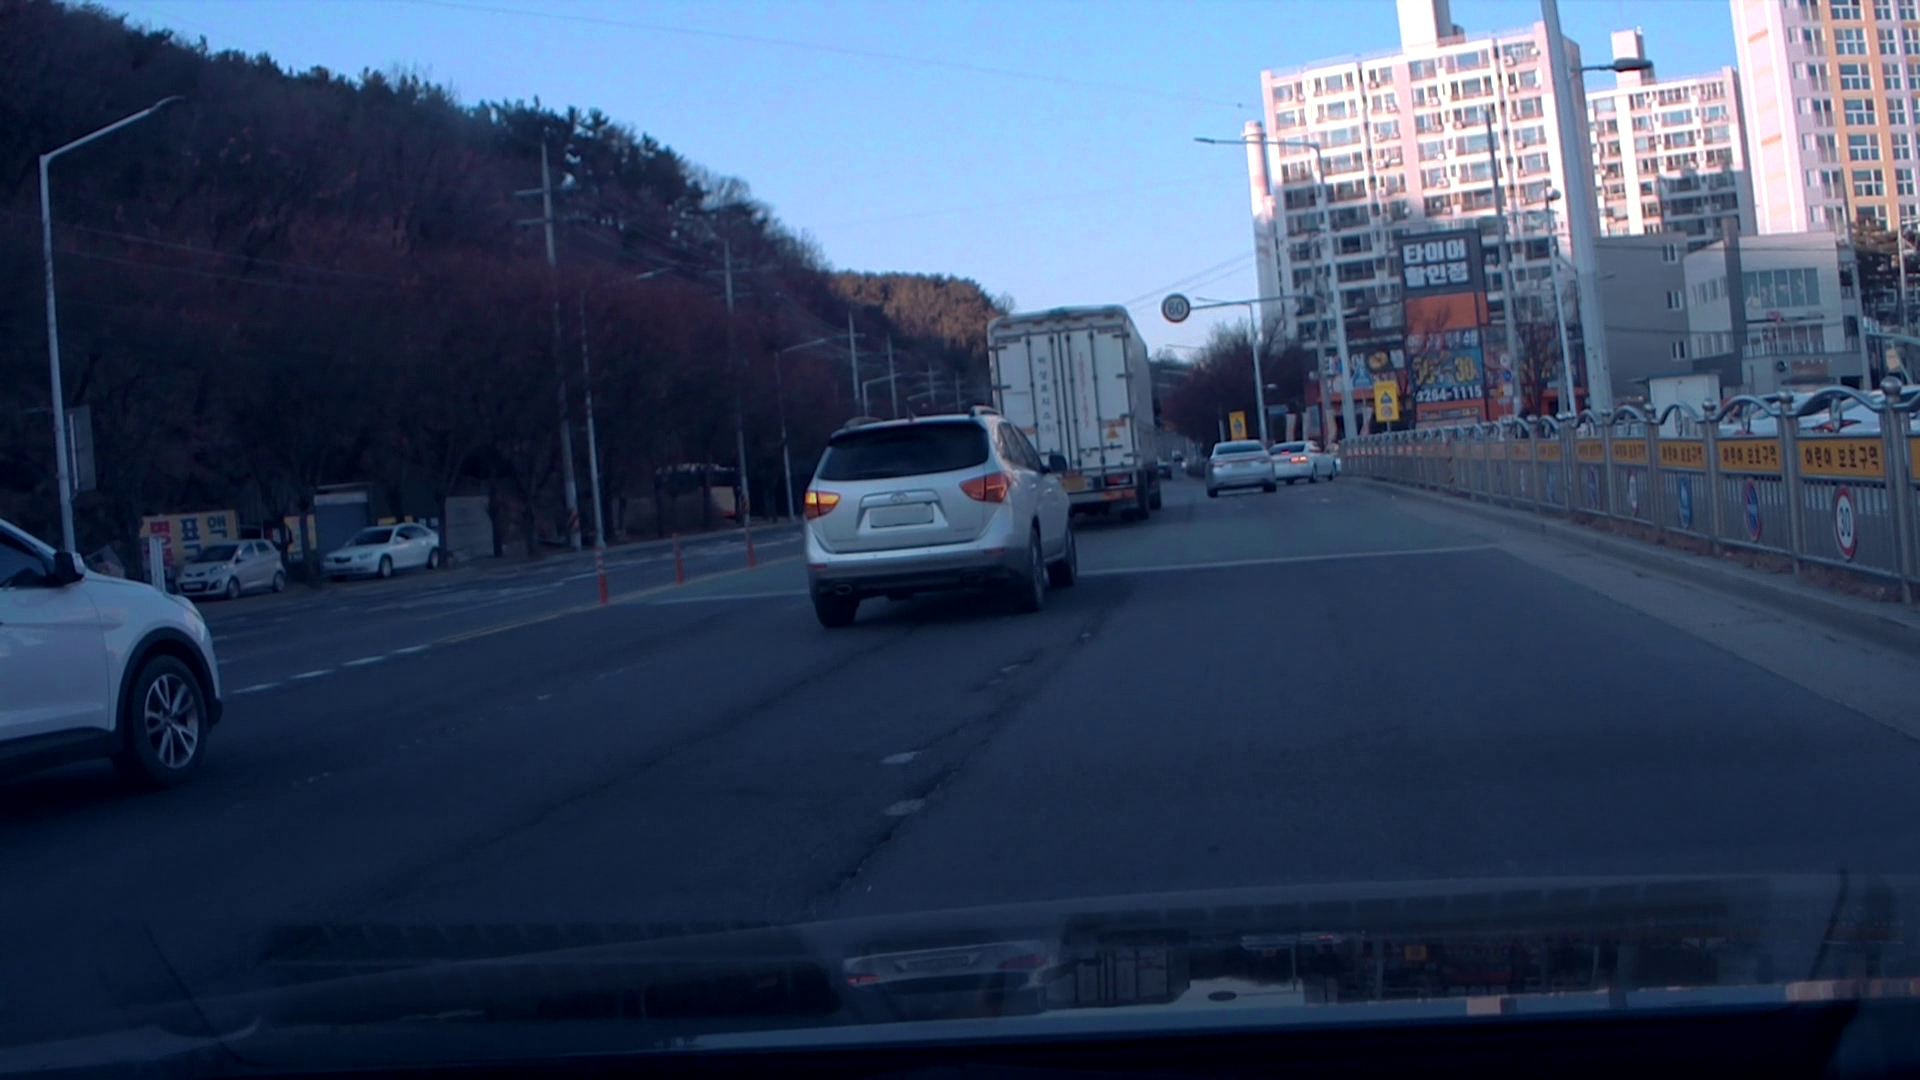trafficSignCircle: (1160, 289, 1191, 327)
